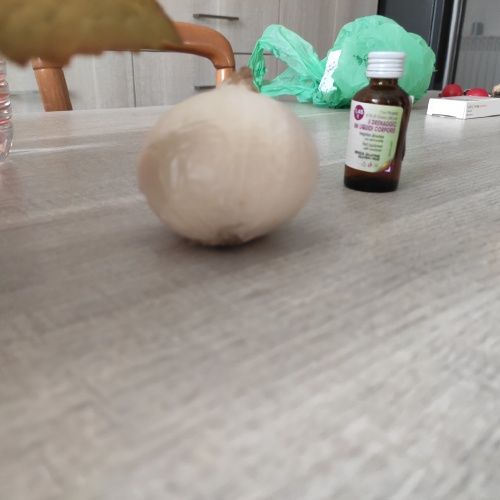cipolla: (133, 61, 333, 261)
